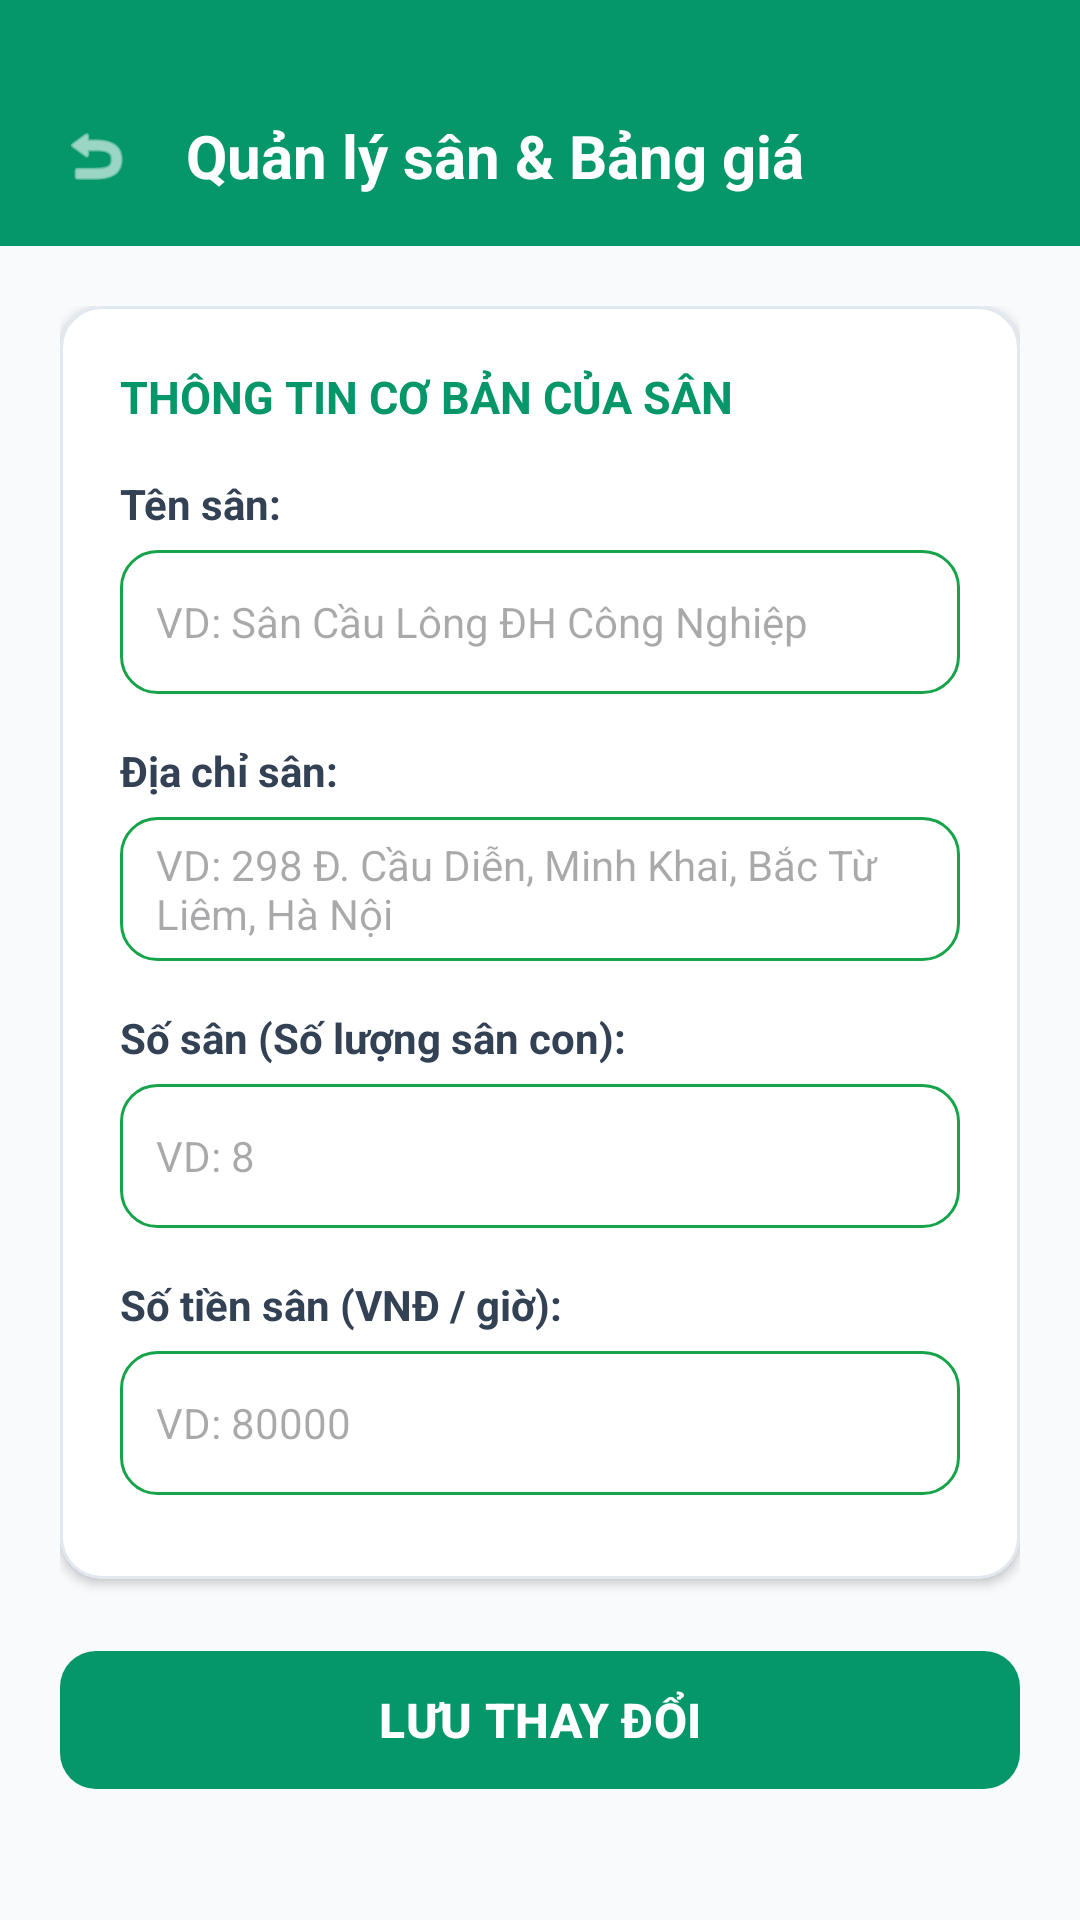

Named icons in this screenshot (1080 × 1920) and their centers, (x=x, y=y):
revert: (x=97, y=156)
